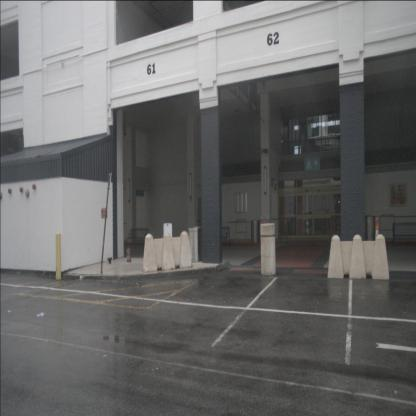cone: (373, 218, 382, 270)
